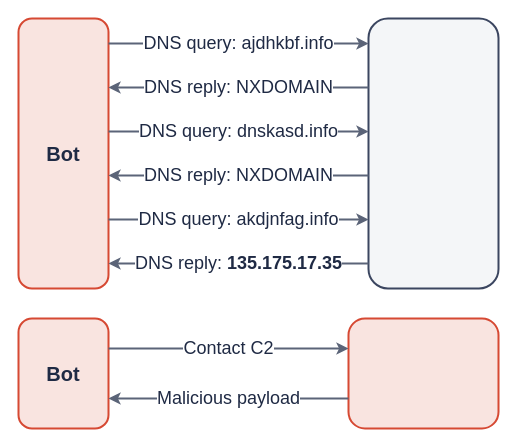
Some shapes in this 516 by 446 pixel diagram are drawn without their labels. The centre of each missing label's shape, as x and y in pixels:
C2 server 135.175.17.35: (423,373)
DNS server: (433,153)
